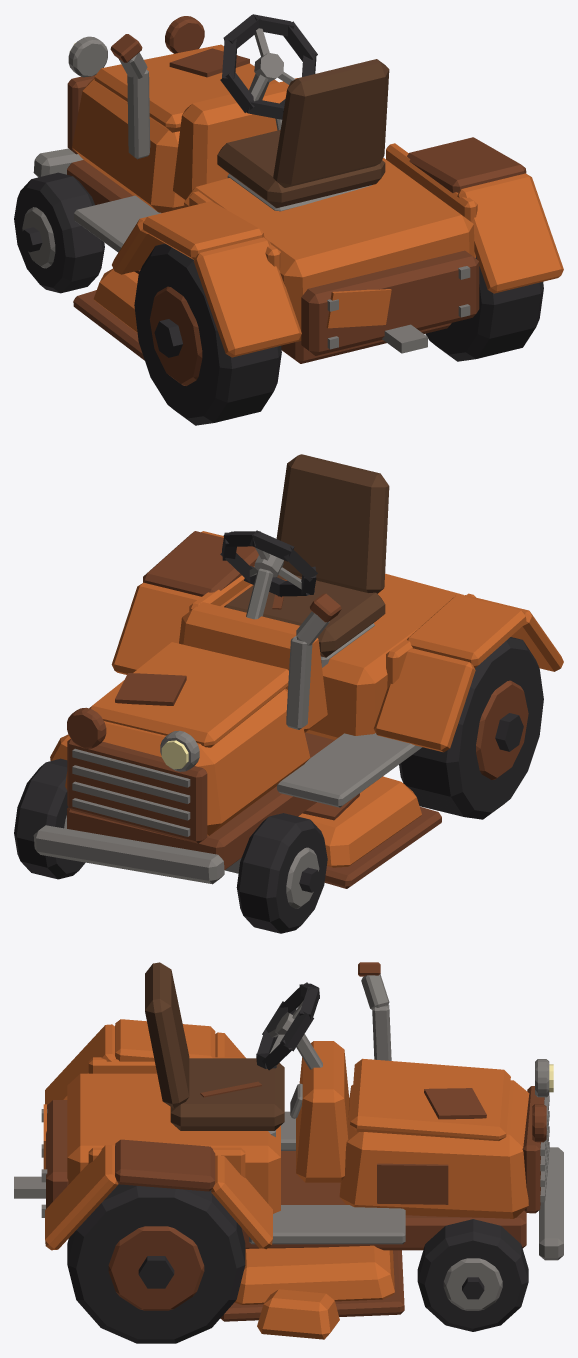
Rendered from mower_rusty.glb.
3 views of the same model, one above another, from view 1: azimuth 30°, elevation 25°; view 2: azimuth 150°, elevation 25°; view 3: azimuth 270°, elevation 25° (orthographic). The views are drawn at different scales.
Visible parts, largest first — view 1: CorrodedMetal__C8682C, Plastic__2C2A2C, CorrodedMetal__764026, Fabric__5C3C28, Metal__807C78; view 2: CorrodedMetal__C8682C, Plastic__2C2A2C, CorrodedMetal__764026, Metal__807C78, Fabric__5C3C28, SmoothPlastic__FAECAA; view 3: CorrodedMetal__C8682C, Plastic__2C2A2C, CorrodedMetal__764026, Metal__807C78, Fabric__5C3C28.
Part boxes in pixels (<box>): CorrodedMetal__C8682C: <box>72,44,563,357</box>; Plastic__2C2A2C: <box>14,14,543,425</box>; CorrodedMetal__764026: <box>67,16,526,385</box>; Fabric__5C3C28: <box>217,59,389,208</box>; Metal__807C78: <box>22,28,470,353</box>; CorrodedMetal__C8682C: <box>50,531,563,867</box>; Plastic__2C2A2C: <box>14,530,543,933</box>; CorrodedMetal__764026: <box>67,531,528,888</box>; Metal__807C78: <box>33,547,422,908</box>; Fabric__5C3C28: <box>224,454,389,657</box>; SmoothPlastic__FAECAA: <box>161,740,188,769</box>; CorrodedMetal__C8682C: <box>43,1019,529,1339</box>; Plastic__2C2A2C: <box>67,982,528,1343</box>; CorrodedMetal__764026: <box>46,962,546,1321</box>; Metal__807C78: <box>14,974,563,1310</box>; Fabric__5C3C28: <box>145,962,284,1130</box>.
Bounding box in the file's own units: 5.75 × 4.56 × 7.72.
